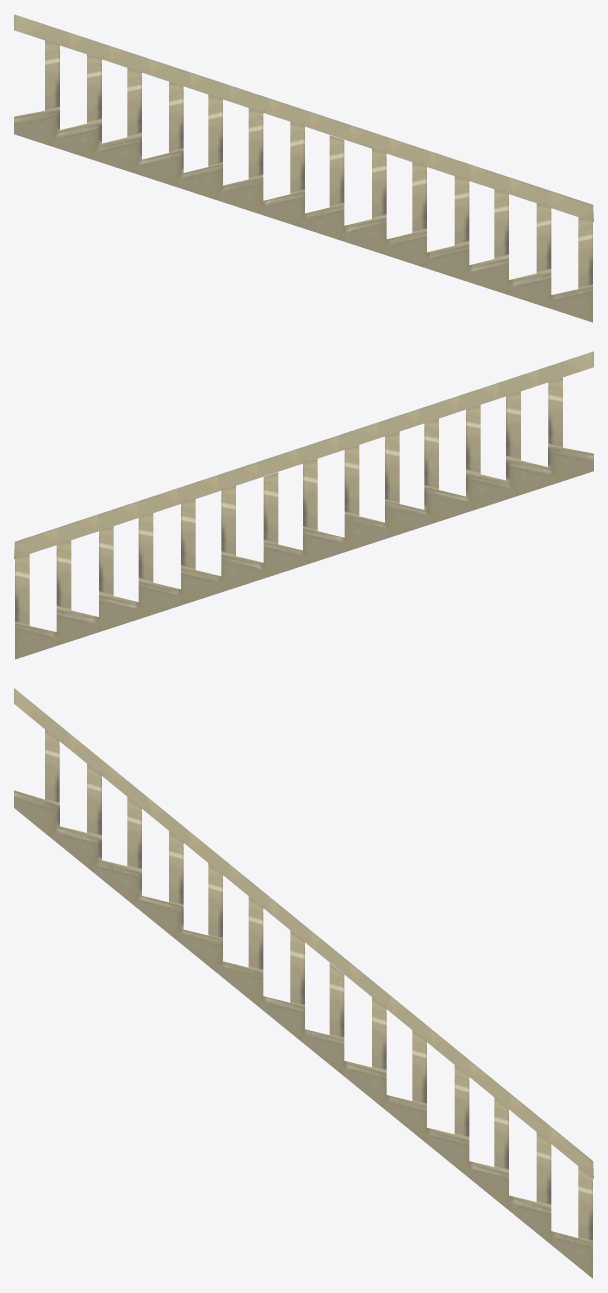
File: Stairs01.glb
3 views of the same model, one above another, from view 1: azimuth 30°, elevation 25°; view 2: azimuth 150°, elevation 25°; view 3: azimuth 330°, elevation 25° (orthographic).
Visible parts, largest first — view 1: Stairs01; view 2: Stairs01; view 3: Stairs01.
Part boxes in pixels (x1=…): Stairs01: x1=14, y1=14, x2=593, y2=322; Stairs01: x1=14, y1=351, x2=593, y2=659; Stairs01: x1=14, y1=688, x2=593, y2=1278.
Size of the model in its own units: 1151 by 853 by 0.198.
Materials: 1 (1 with a texture image).
